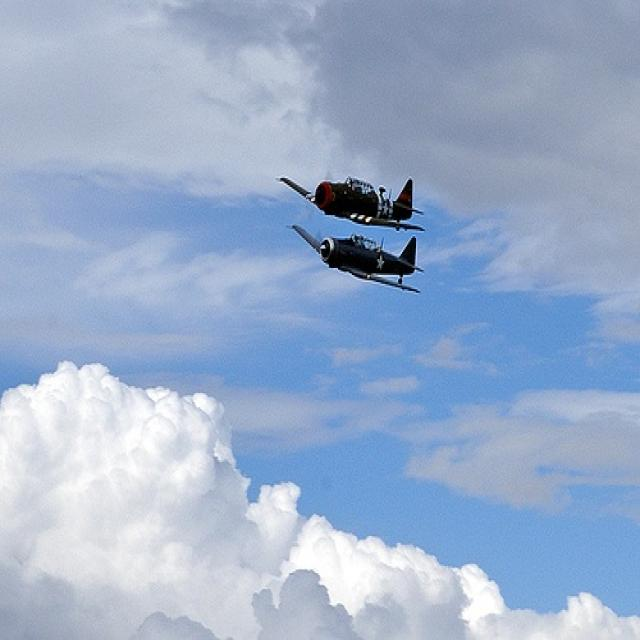aeroplane: (273, 162, 426, 235), (286, 217, 424, 294)
